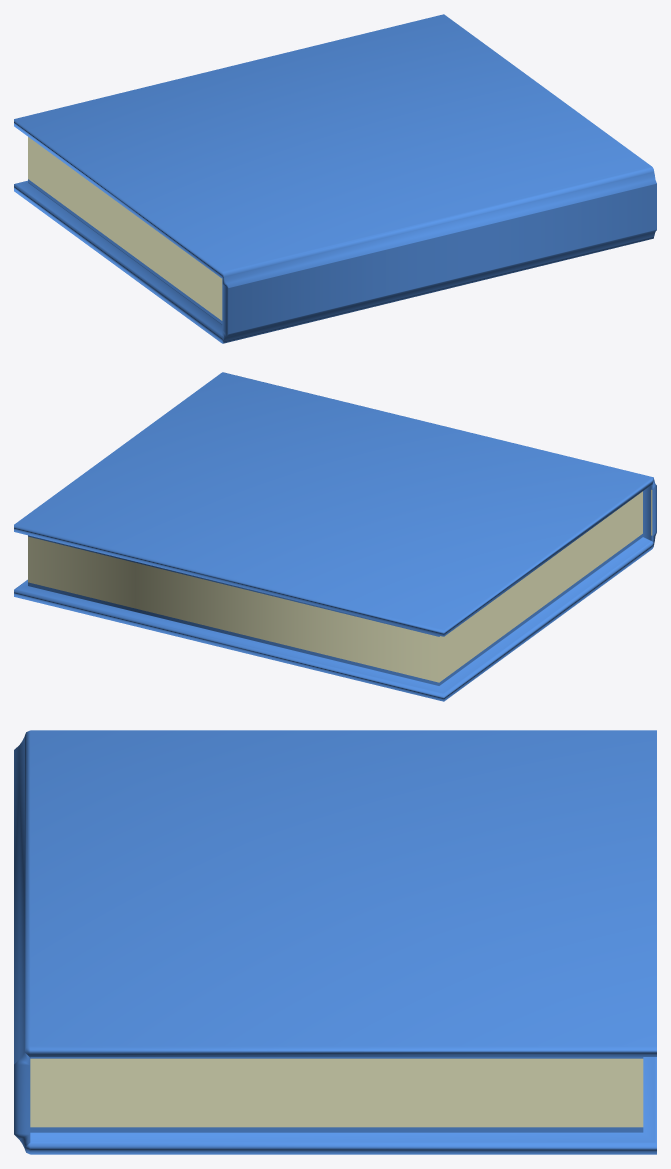
Rendered from book 1.fbx.
3 renders of one model, top to bottom at view 1: azimuth 30°, elevation 25°; view 2: azimuth 150°, elevation 25°; view 3: azimuth 270°, elevation 25°, orthographic. The views are drawn at different scales.
Visible parts, largest first — view 1: book1; view 2: book1; view 3: book1.
Boxes of the visible parts, x1,y1,x2,y2 form: book1: (14,14,656,343); book1: (14,372,656,701); book1: (14,730,656,1154).
Bounding box in the file's own units: 22.65 × 3.63 × 19.5.
